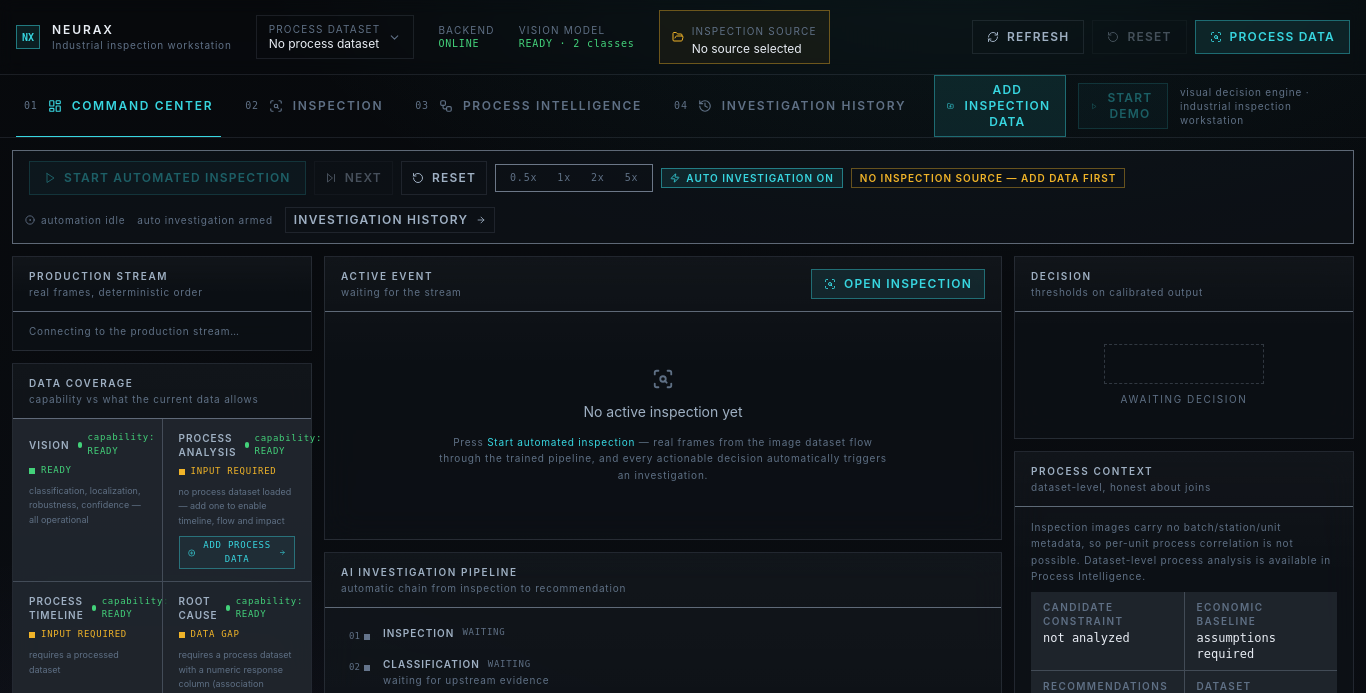
Scenario: phase 12 app shell › process intelligence explains that no process dataset is loaded
Step 1. Click the button "03 Process Intelligence" → (529,106), box [399,75,658,137]
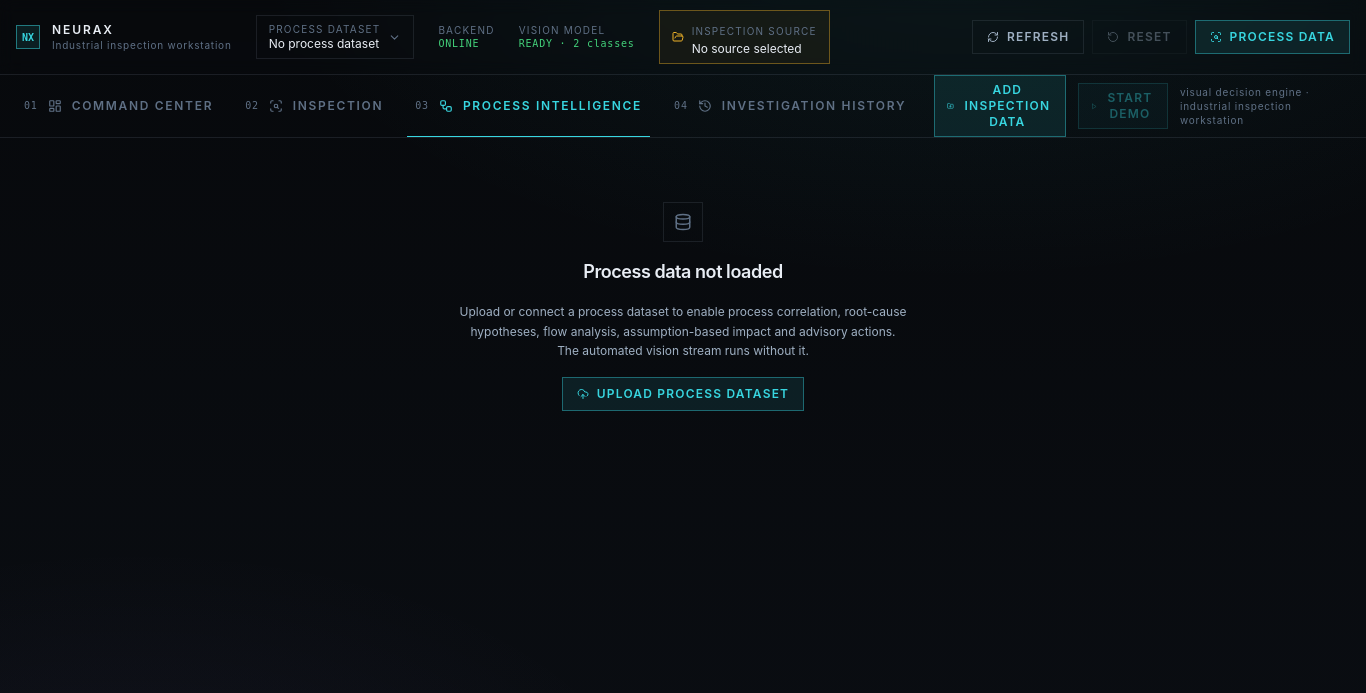
Now the heading "Process data not loaded" is shown, box [583,258,783,286]
Now the button "Upload process dataset" is shown, box [562,376,804,410]
